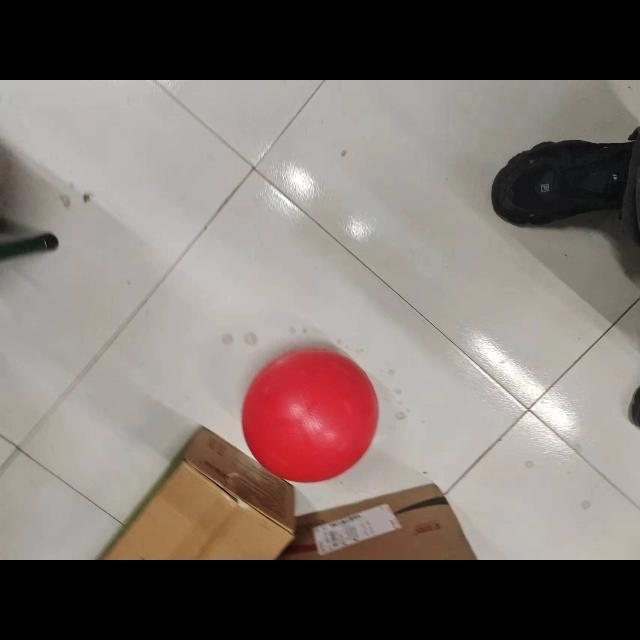R: (235, 340, 383, 488)
